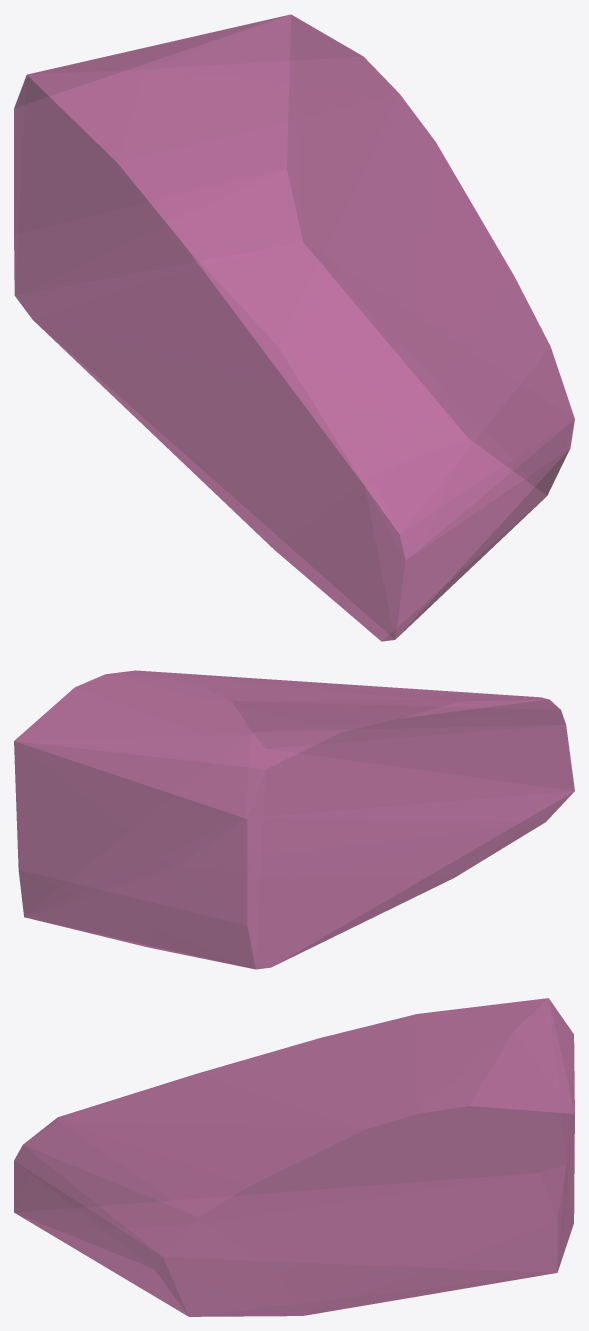
3 views of the same model, one above another, from view 1: azimuth 30°, elevation 25°; view 2: azimuth 150°, elevation 25°; view 3: azimuth 270°, elevation 25° (orthographic). The views are drawn at different scales.
Parts seen in each view (by area): view 1: Shape_IndexedFaceSet.007_Shape_IndexedFaceSet.818; view 2: Shape_IndexedFaceSet.007_Shape_IndexedFaceSet.818; view 3: Shape_IndexedFaceSet.007_Shape_IndexedFaceSet.818.
Part boxes in pixels (<box>): Shape_IndexedFaceSet.007_Shape_IndexedFaceSet.818: <box>14,14,574,641</box>; Shape_IndexedFaceSet.007_Shape_IndexedFaceSet.818: <box>14,670,574,969</box>; Shape_IndexedFaceSet.007_Shape_IndexedFaceSet.818: <box>14,998,574,1316</box>.
Bounding box in the file's own units: 0.0715 × 0.0768 × 0.1695.
